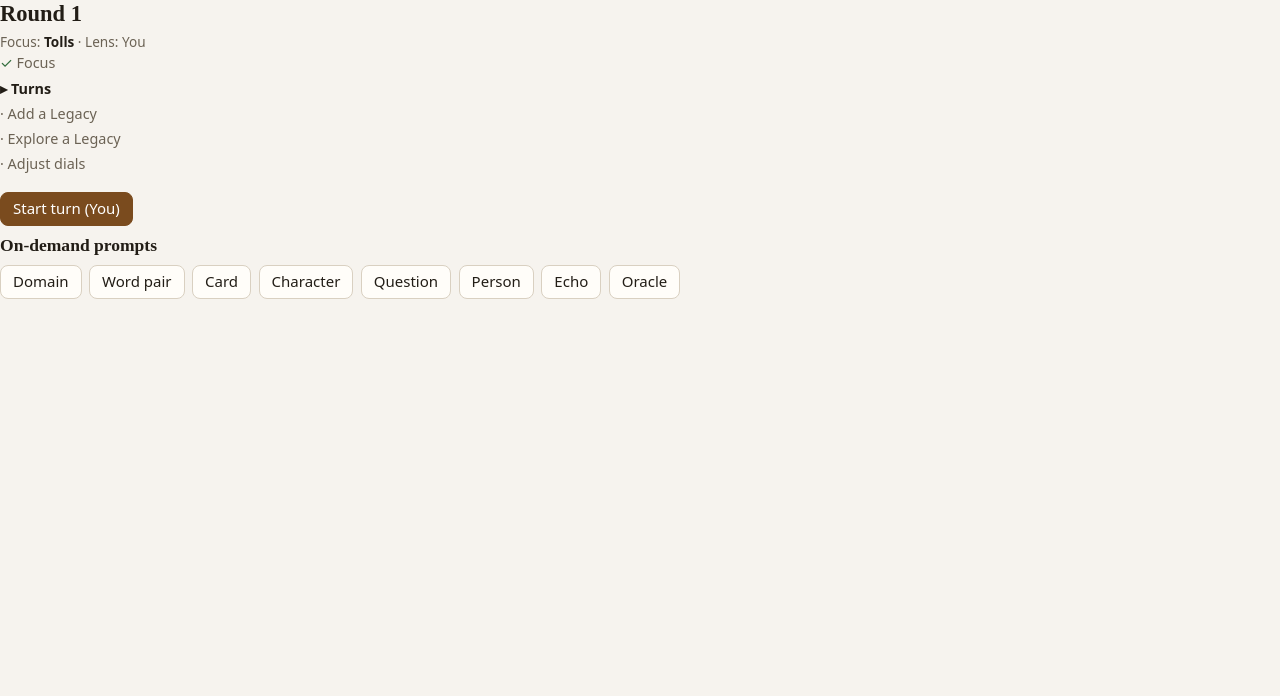
Test case: Scene frame › Question idea rolls a question; Use copies it into the Question field
The width and height of the screenshot is (1280, 696).
Click the button "Start turn (You)" at point(66, 209), box [0,192,133,226]
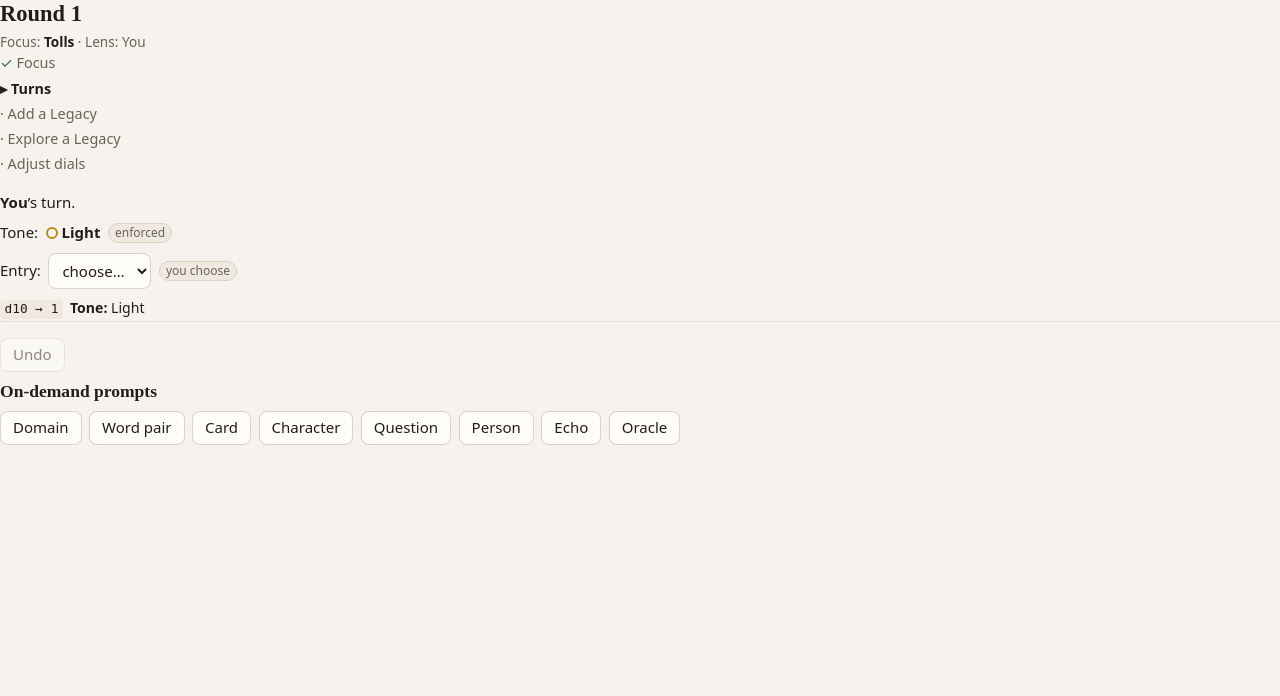
Select "Scene" in the dropdown named "Entry type" at point(100, 271), box [48,253,151,289]
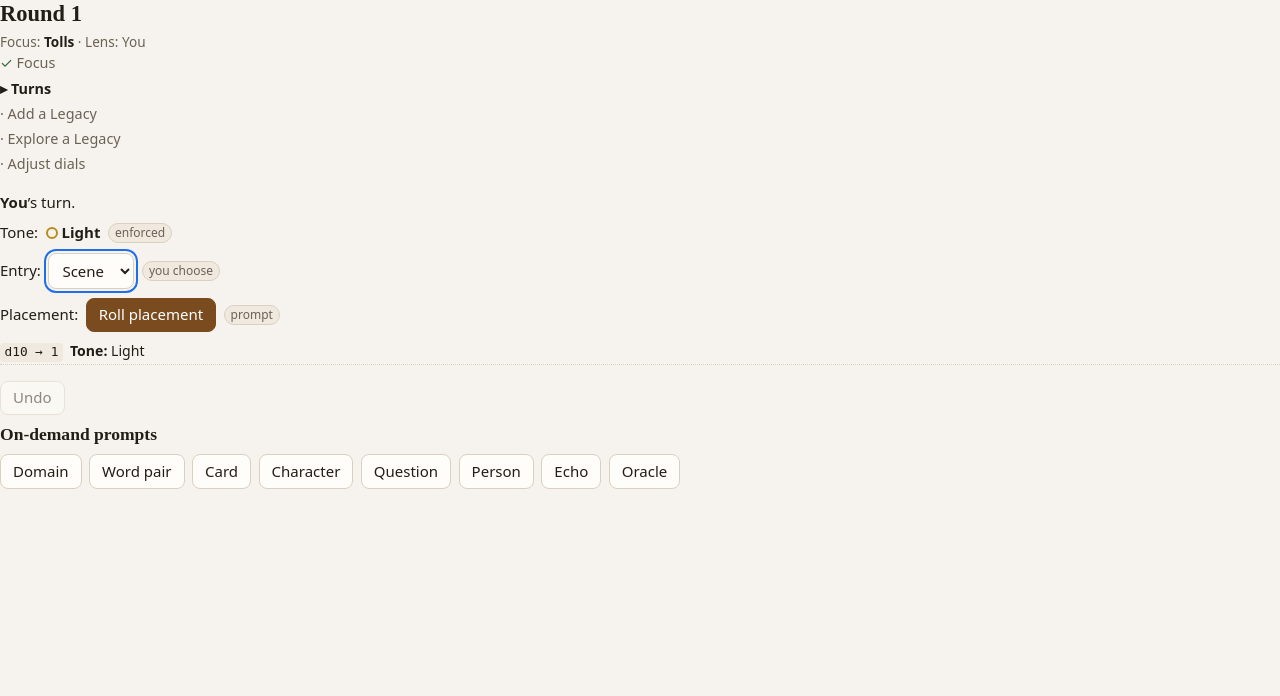
Click the button "Roll placement" at point(151, 315), box [86,298,216,332]
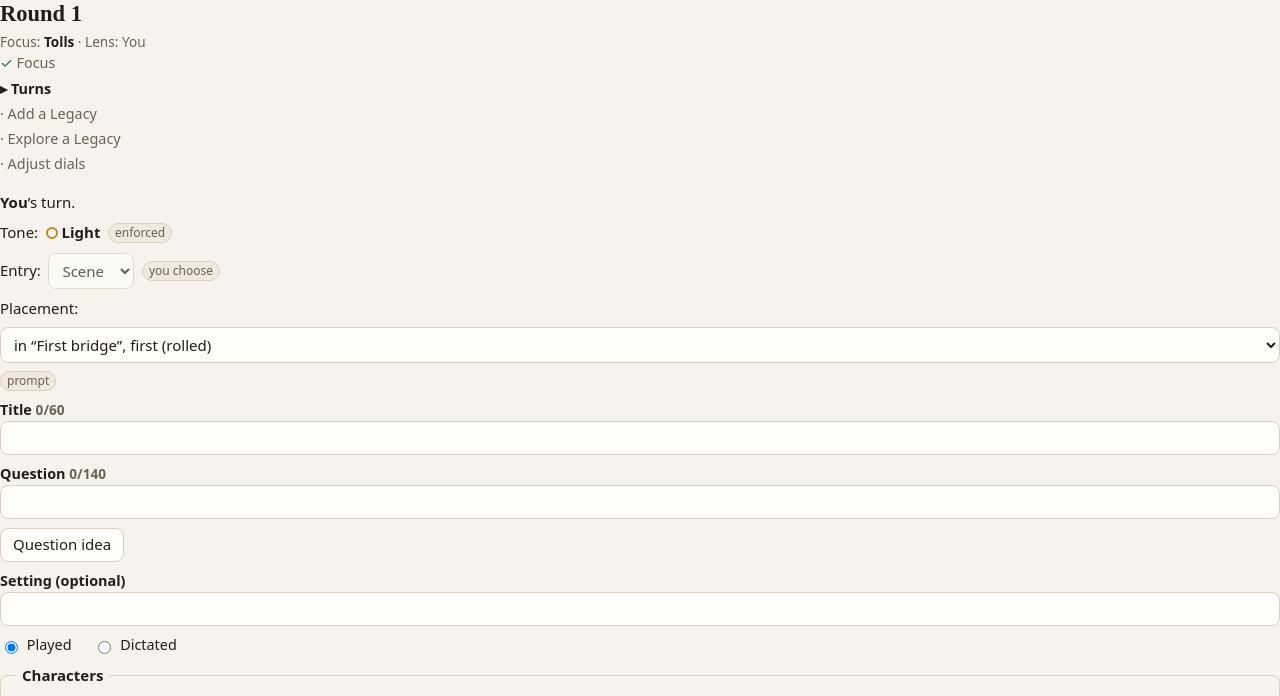
Click the button "Question idea" at point(62, 545), box [0,528,124,562]
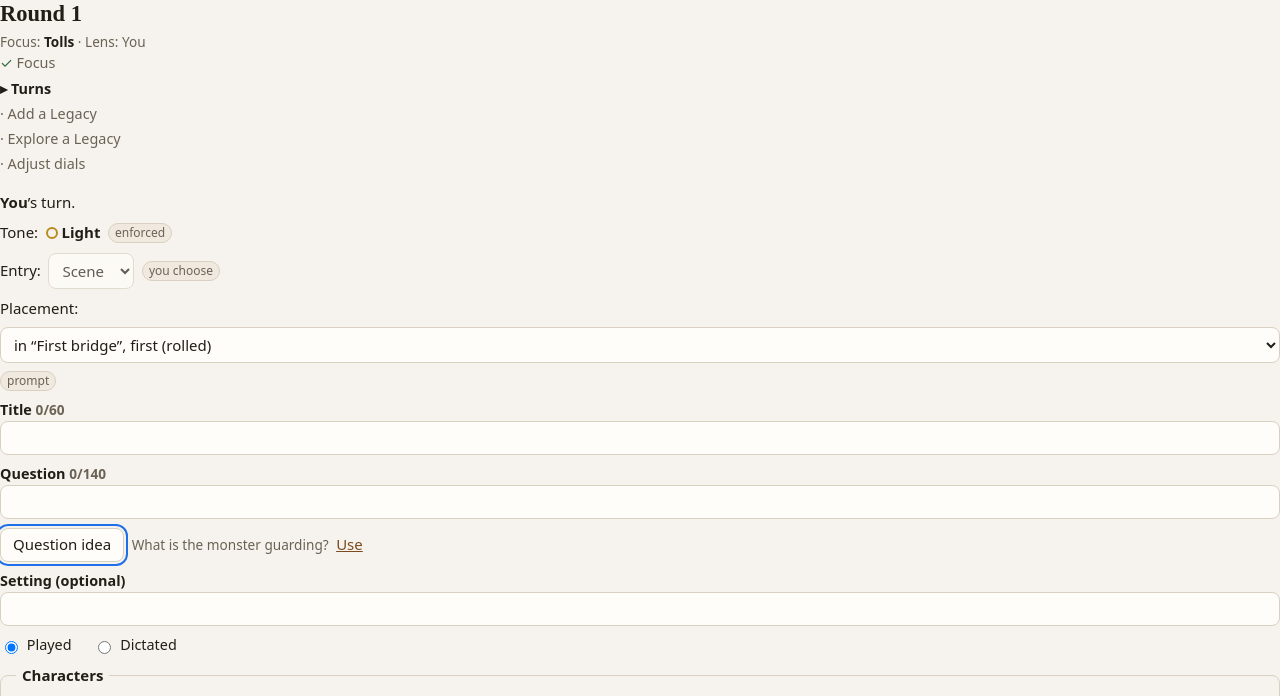
Type "mine" into the field labelled "Question 0/140" at point(640, 502), box [0,485,1279,519]
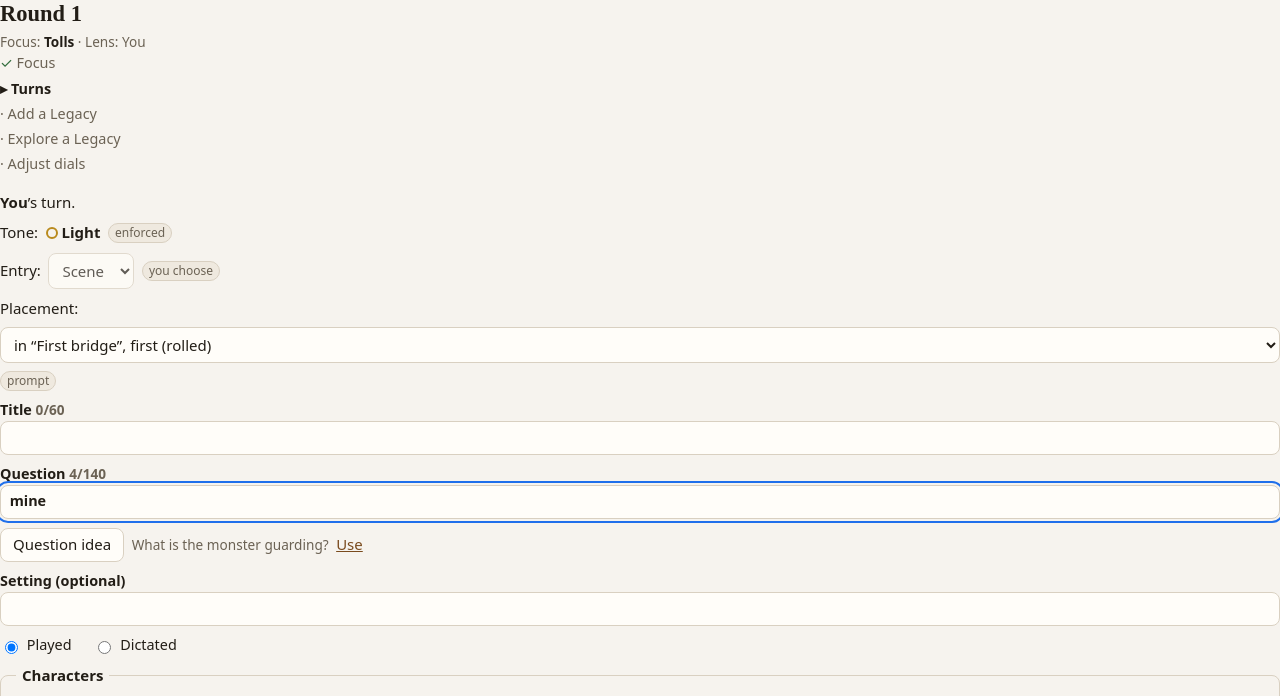
Click the button with aria-label "Use this question" at point(349, 545), box [336,534,363,556]
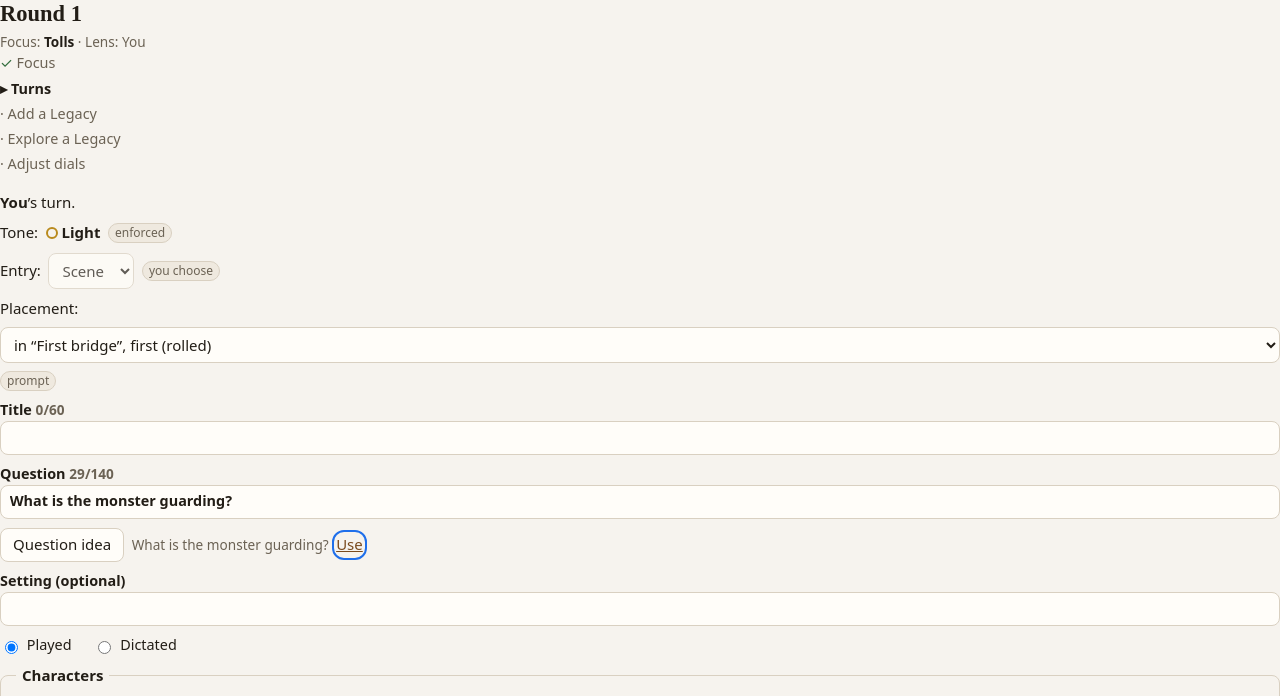
Expected: the field labelled "Question 29/140" holds "What is the monster guarding?", [0,485,1279,519]
